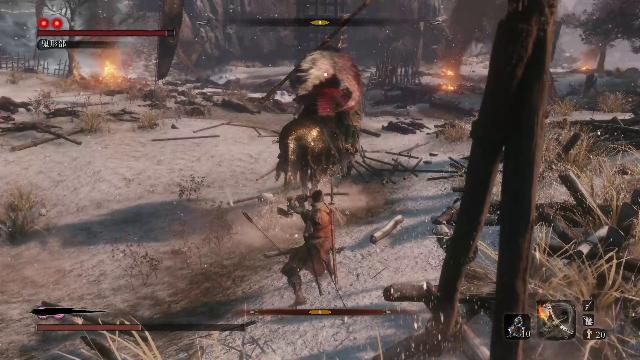sk: (277, 187, 338, 310)
